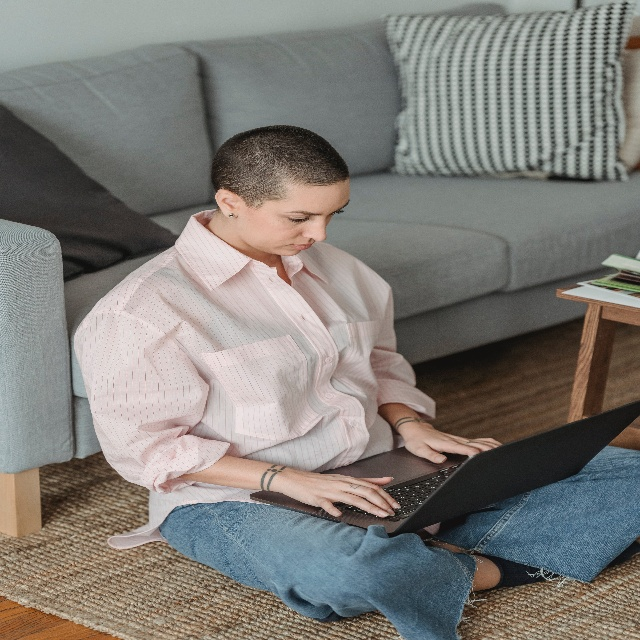Sin_guantes: (283, 467, 401, 518), (405, 420, 502, 464)
